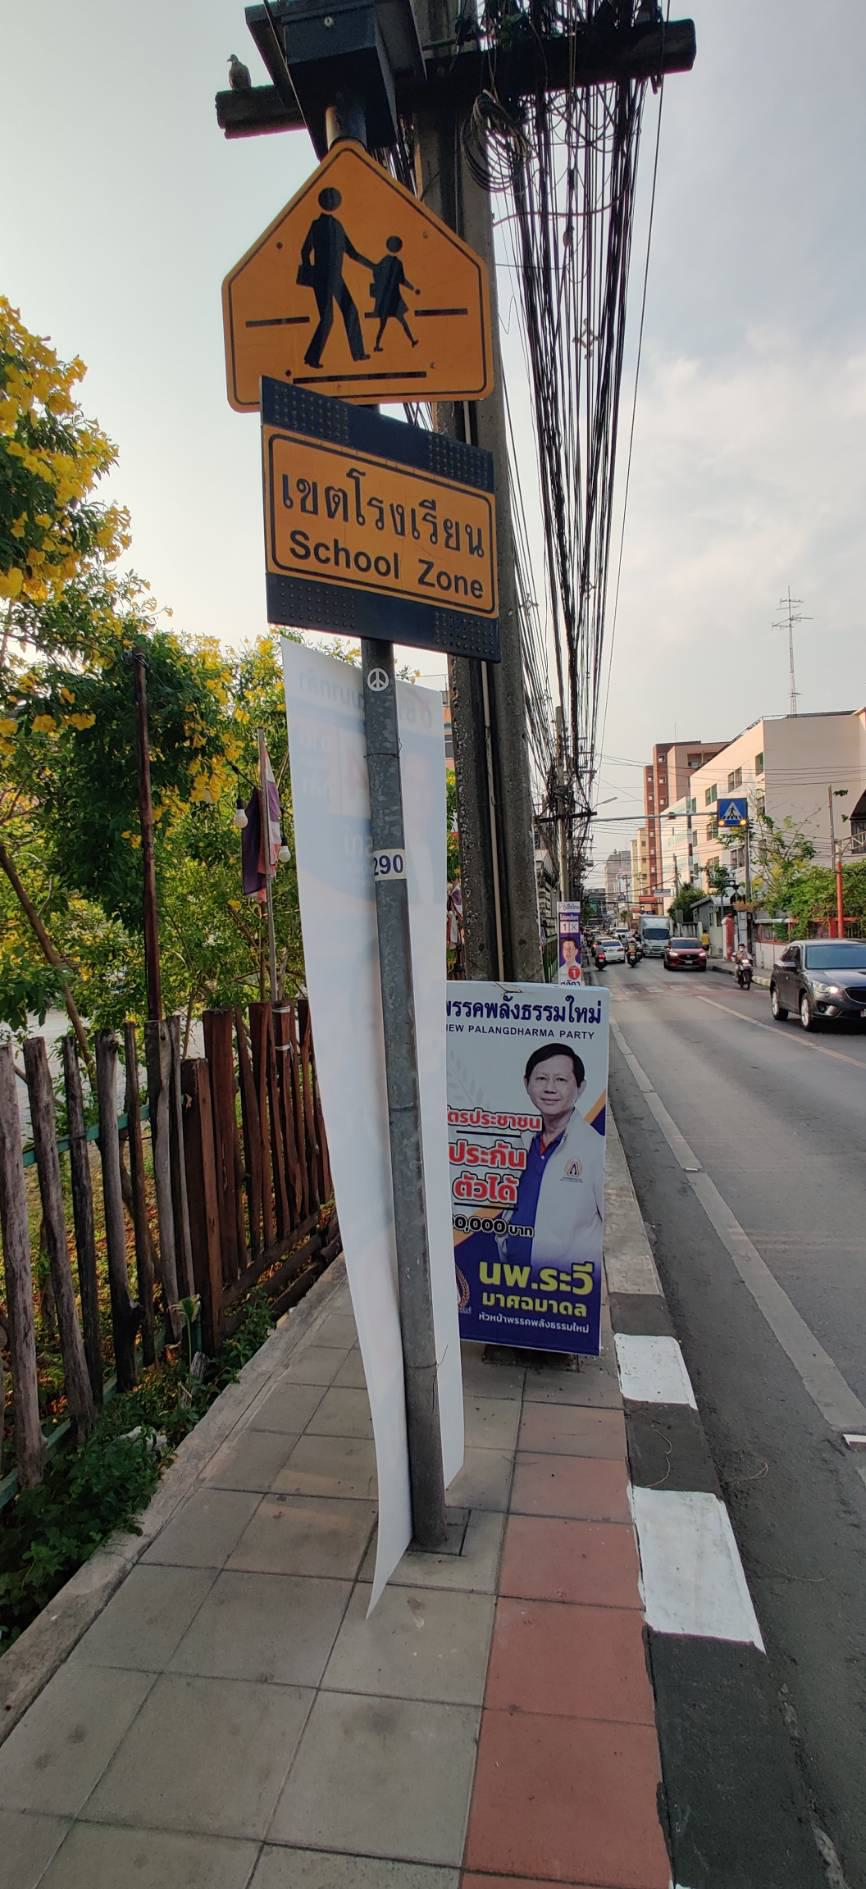Banner: (418, 985, 618, 1364)
